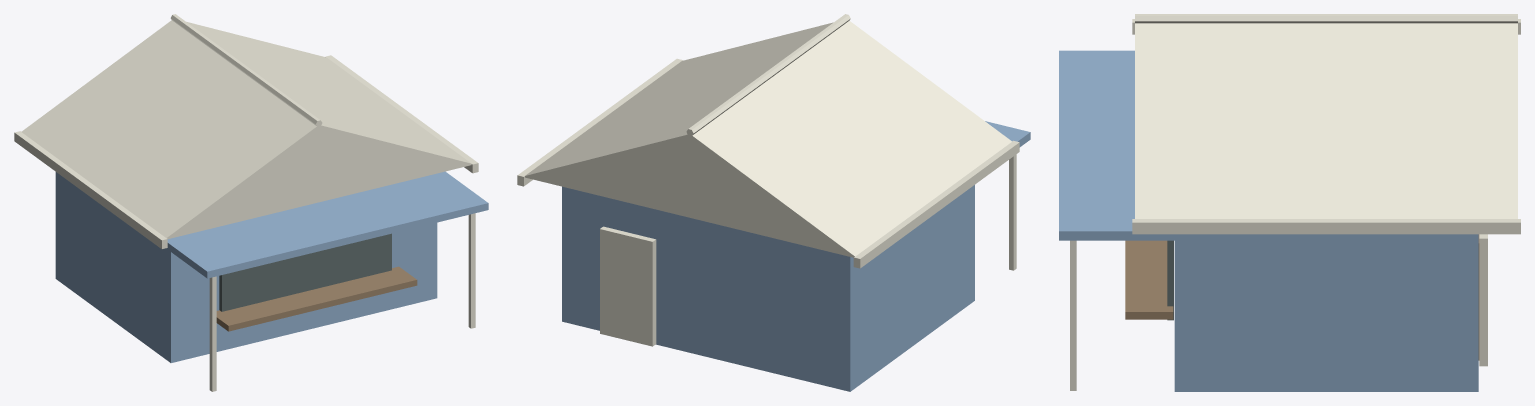
The picture shows the model from 3 angles, left to right: view 1: azimuth 30°, elevation 25°; view 2: azimuth 150°, elevation 25°; view 3: azimuth 270°, elevation 25°; orthographic projection. The views are drawn at different scales.
Bounding box in the file's own units: 8.56 × 5.71 × 8.2.
